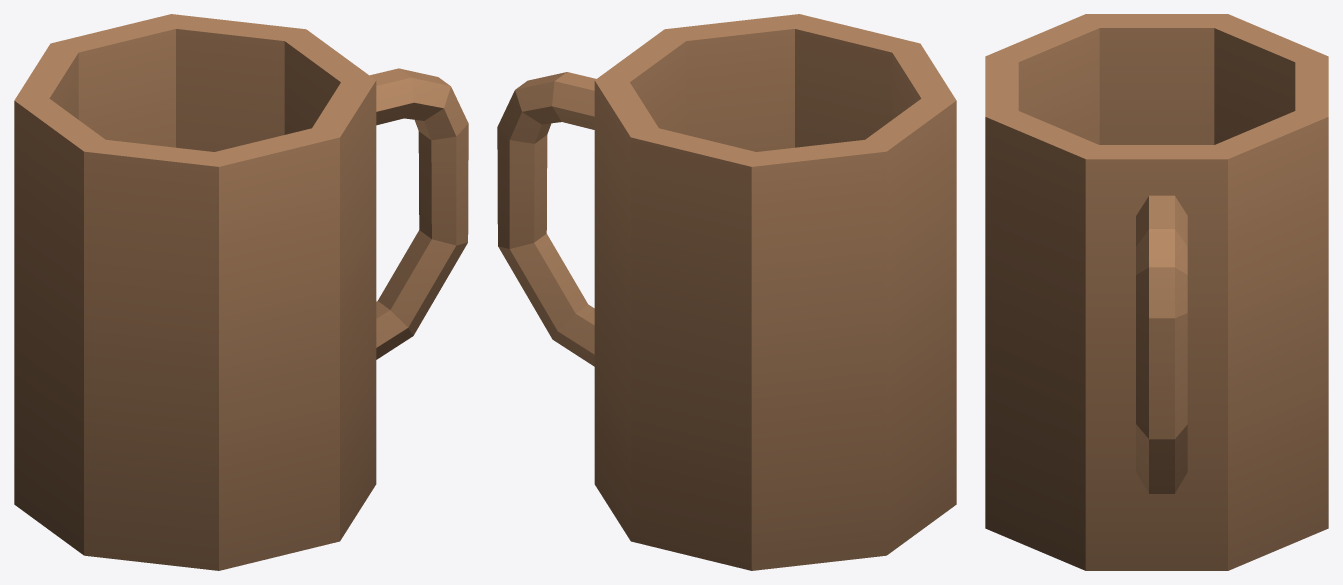
File: mug.glb
3 renders of one model, left to right at view 1: azimuth 30°, elevation 25°; view 2: azimuth 150°, elevation 25°; view 3: azimuth 270°, elevation 25°, orthographic.
Parts seen in each view (by area): view 1: mug; view 2: mug; view 3: mug.
Part boxes in pixels (<box>): mug: <box>14,14,468,570</box>; mug: <box>497,14,956,570</box>; mug: <box>985,14,1328,570</box>.
Bounding box in the file's own units: 0.1879 × 0.1746 × 0.1321.
Materials: 1 (1 with a texture image).
